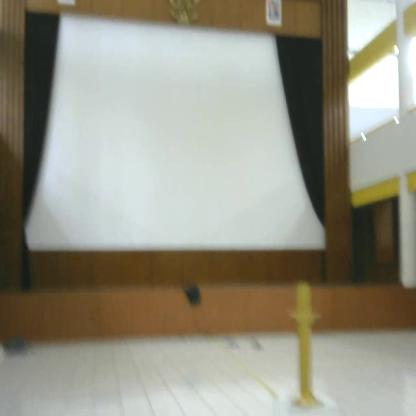pole: (288, 279, 328, 416)
